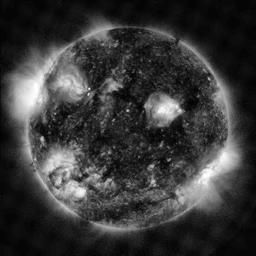solar flares: (147, 95, 180, 124), (41, 151, 68, 171), (62, 78, 87, 98), (69, 183, 87, 200), (199, 167, 210, 182)
sunspots: (145, 127, 181, 143), (180, 84, 198, 109), (92, 132, 115, 149), (38, 122, 58, 141), (112, 29, 137, 44), (118, 86, 136, 104), (104, 208, 127, 221), (109, 160, 120, 173)
